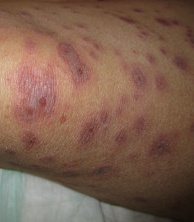SJS-TEN: (9, 0, 192, 195)
